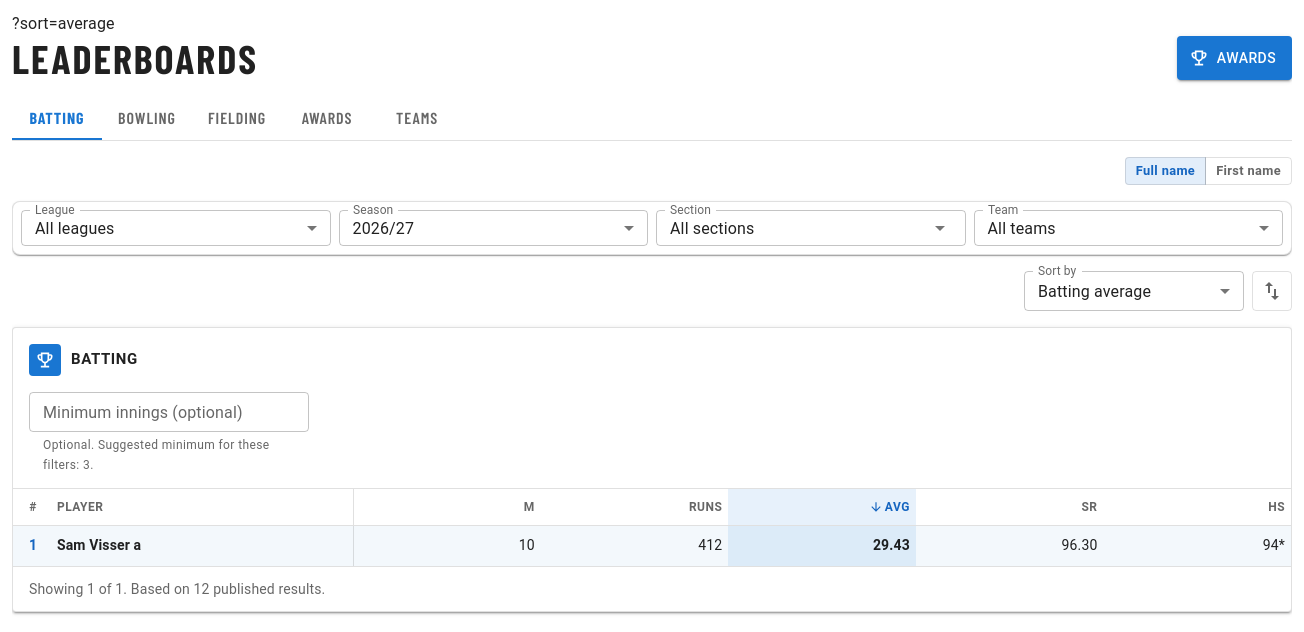
LeaderboardsPage › the optional minimum › typing a minimum refetches after a debounce, and Clear removes it
The image size is (1304, 632).
Step 1. Type "3" into the field named "Minimum innings" → [169, 412], box top-left (29, 392), bottom-right (309, 432)
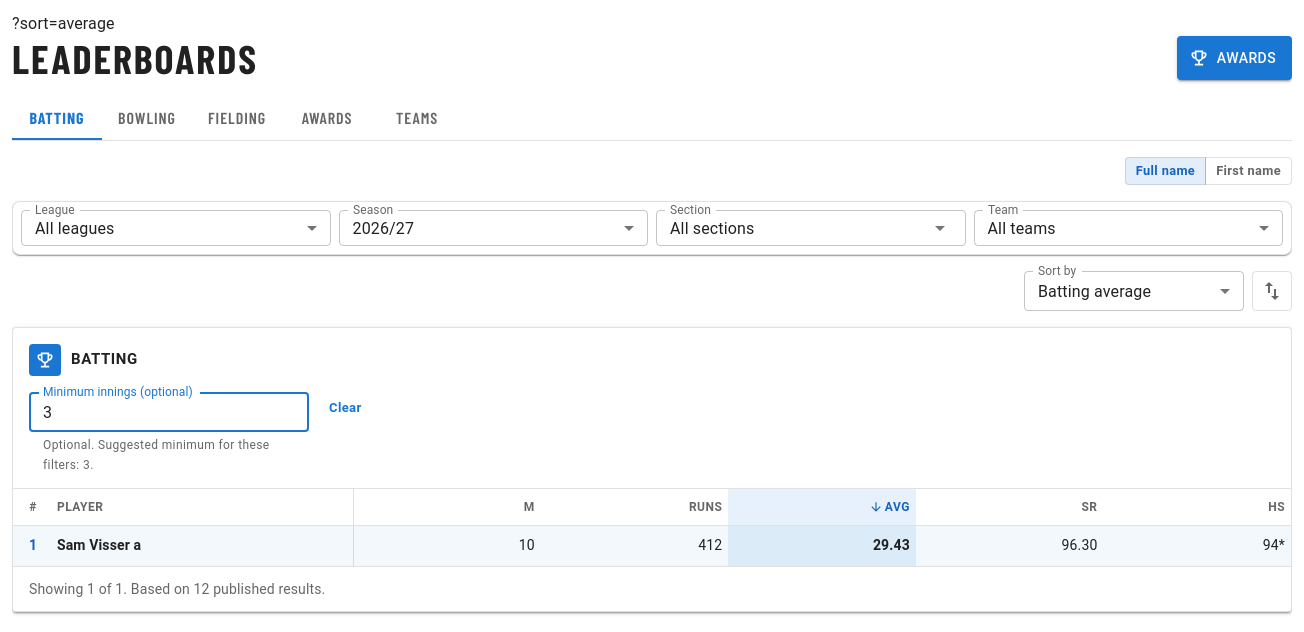
Step 2. Click the button "Clear" → [345, 408], box top-left (317, 392), bottom-right (374, 424)
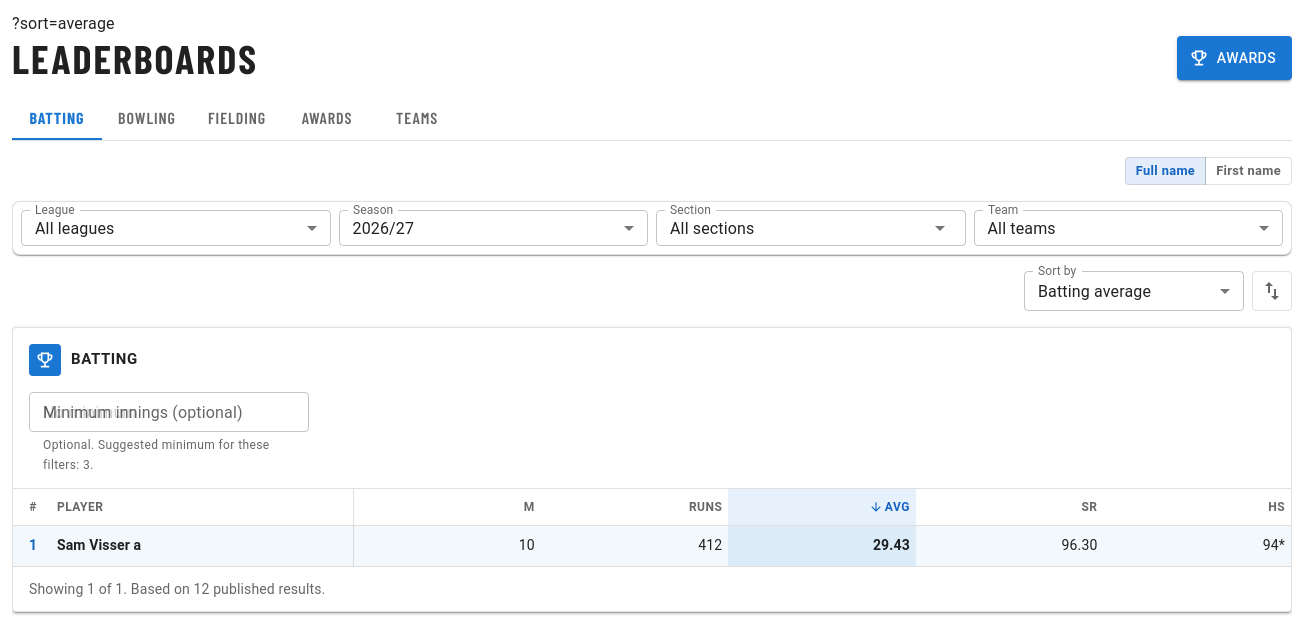
Now the field named "Minimum innings" is empty, box top-left (29, 392), bottom-right (309, 432)
